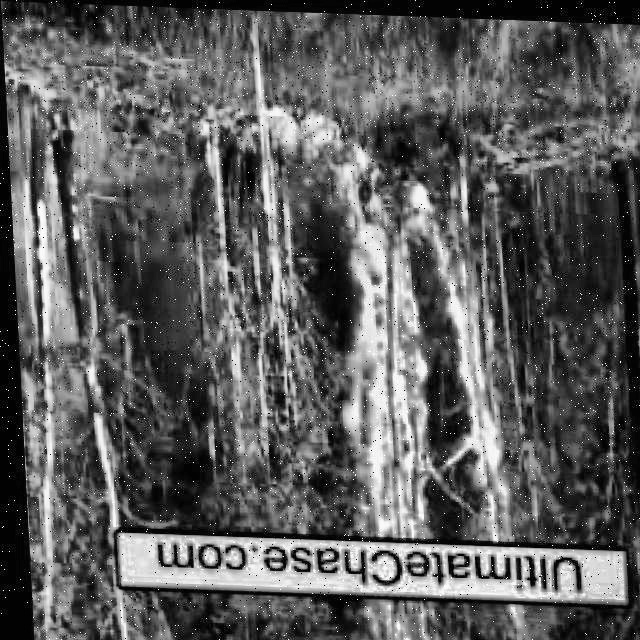Fire: (328, 158, 501, 538), (241, 100, 371, 183), (231, 100, 354, 147), (354, 595, 432, 640)
